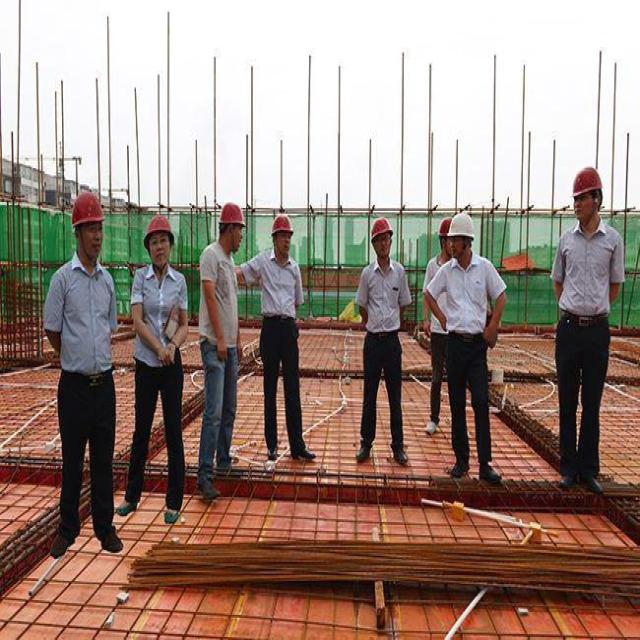face_nomask: (570, 190, 599, 230), (80, 221, 106, 261), (147, 228, 169, 267), (224, 223, 244, 258), (448, 233, 473, 261), (274, 227, 294, 261), (373, 233, 394, 265)
hand_noglove: (156, 344, 178, 372), (214, 335, 230, 363)
head_helmet: (68, 187, 106, 226), (567, 165, 604, 196), (144, 212, 175, 244), (449, 208, 477, 237), (219, 200, 245, 226), (370, 216, 394, 240), (270, 210, 293, 234), (437, 214, 454, 237)
person: (46, 187, 119, 550), (126, 212, 189, 520), (556, 164, 616, 484), (438, 214, 507, 479), (253, 212, 311, 459), (199, 200, 244, 506), (354, 216, 408, 464), (425, 214, 455, 431)
shoes: (47, 520, 79, 562), (91, 520, 123, 558), (576, 464, 606, 499), (552, 468, 582, 498), (475, 456, 503, 484), (196, 471, 220, 502), (113, 492, 139, 518), (160, 492, 181, 524), (449, 453, 470, 480), (353, 437, 373, 465), (389, 439, 409, 466), (423, 416, 438, 436)
